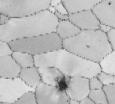good_void: (53, 74, 72, 92), (108, 1, 113, 6), (86, 44, 90, 48)
